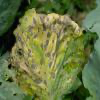Tomato leaf bacterial spot: (10, 9, 87, 99)
